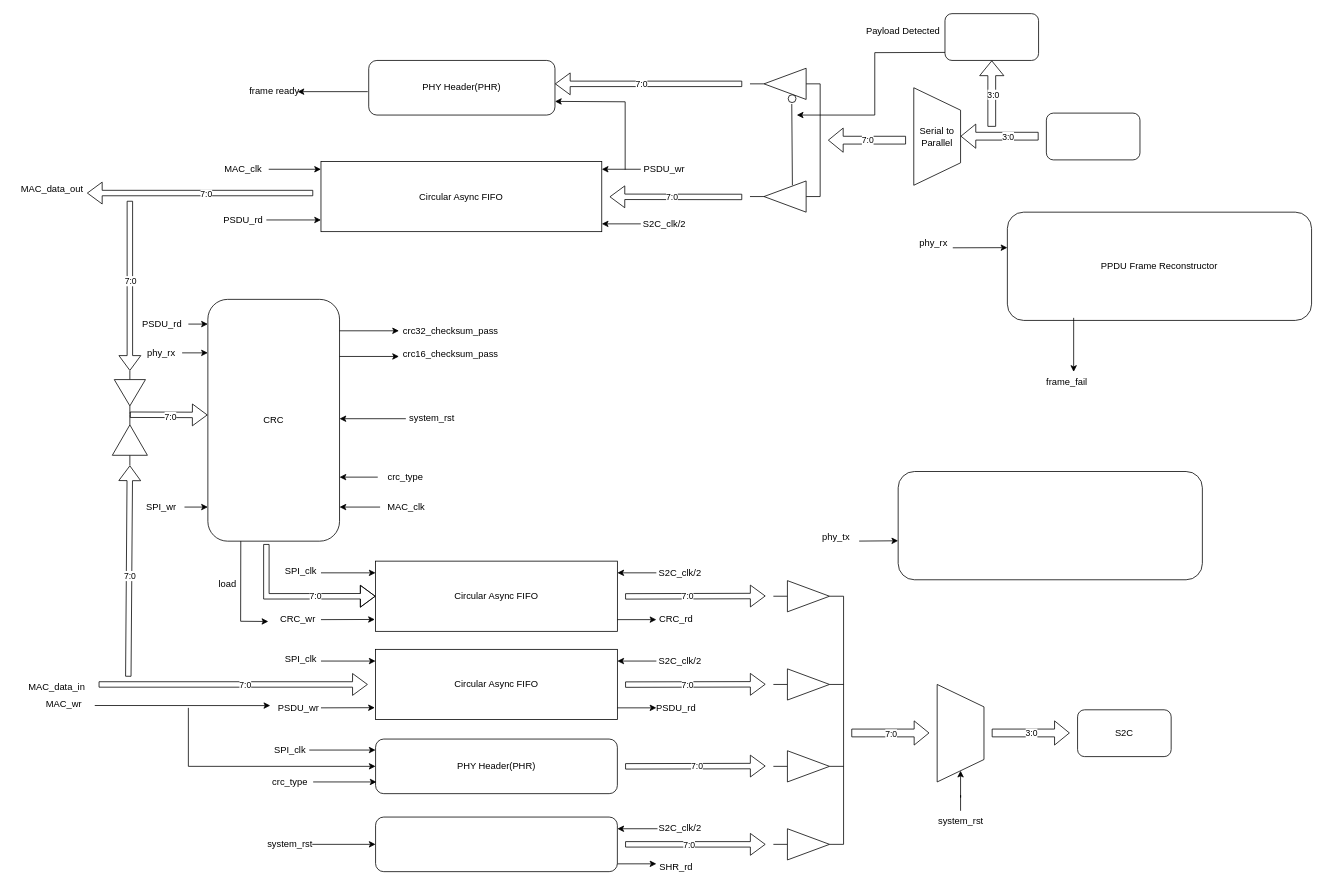
Image size: 1325x893. Some labels were removed from this diagram. The centre of each missing label's shape, as x and y in pixels:
"C2S" goes at [1093,136].
"Parallel to Serial" goes at [960,733].
"PPDU Frame Generator" goes at [1049,525].
"SHR Sequence Detector" goes at [991,36].
"Syncronisation Header(SHR)" goes at [496,844].
